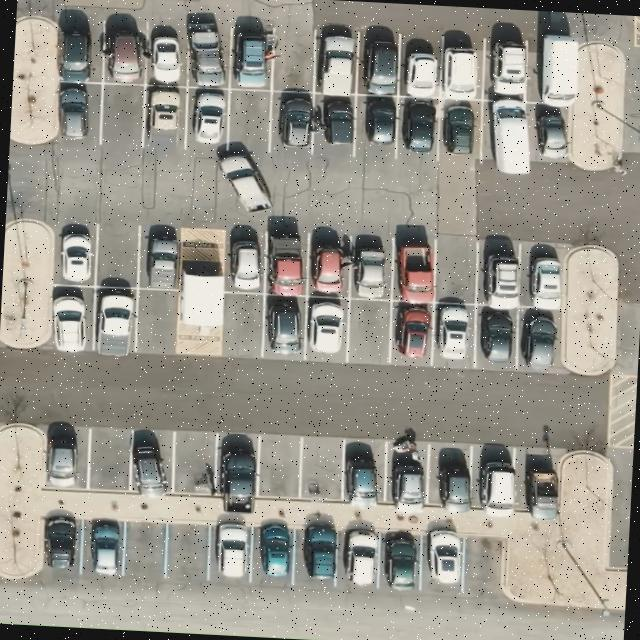space-empty: (268, 22, 318, 94), (170, 432, 219, 502), (93, 221, 142, 289), (98, 84, 146, 153), (296, 437, 346, 503), (433, 234, 480, 302), (218, 292, 266, 358), (254, 435, 302, 501), (85, 426, 132, 492), (164, 520, 212, 584), (226, 88, 271, 155), (122, 518, 168, 582), (348, 297, 392, 363), (134, 288, 179, 352), (462, 536, 504, 594)
space-occupied: (210, 432, 266, 513), (482, 98, 538, 176), (472, 446, 524, 520), (88, 286, 142, 356), (260, 223, 310, 297), (228, 21, 280, 92), (484, 30, 536, 101), (382, 439, 432, 512), (418, 526, 470, 596), (424, 442, 474, 514), (516, 443, 568, 512), (391, 230, 438, 303), (144, 18, 193, 88), (339, 438, 388, 508), (54, 218, 103, 288), (346, 232, 396, 300), (438, 32, 489, 98), (476, 238, 524, 308), (292, 521, 342, 587), (143, 84, 190, 154), (102, 16, 149, 86), (518, 242, 566, 310), (56, 15, 103, 84), (188, 20, 235, 89), (303, 297, 353, 361), (250, 520, 297, 588), (318, 26, 364, 94), (335, 526, 381, 594), (376, 527, 422, 595), (430, 302, 478, 367), (436, 99, 484, 164), (530, 31, 572, 105), (127, 430, 174, 496), (52, 82, 102, 144), (42, 423, 88, 490), (309, 232, 354, 300), (395, 97, 442, 162), (209, 518, 256, 583), (396, 34, 443, 99), (268, 92, 317, 154), (260, 296, 307, 360), (183, 86, 230, 150), (136, 227, 183, 291), (356, 28, 400, 96), (388, 302, 436, 364), (472, 308, 520, 370), (80, 518, 128, 578), (515, 310, 560, 372), (312, 94, 357, 156), (353, 95, 398, 157), (40, 515, 84, 577), (224, 227, 263, 296), (47, 288, 86, 352), (529, 106, 566, 168)
